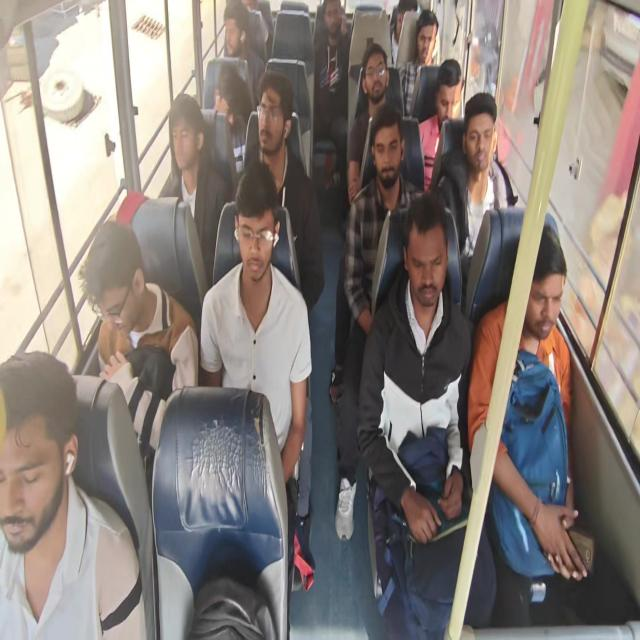person: (0, 387, 72, 548), (87, 244, 139, 343), (240, 200, 280, 283), (530, 246, 557, 340), (412, 225, 442, 309), (467, 100, 500, 172), (257, 99, 289, 157), (437, 67, 466, 125), (411, 18, 442, 66), (360, 54, 387, 108), (374, 133, 399, 186), (215, 78, 239, 130), (390, 5, 420, 45), (170, 124, 192, 168), (221, 20, 245, 56), (326, 5, 342, 45)
